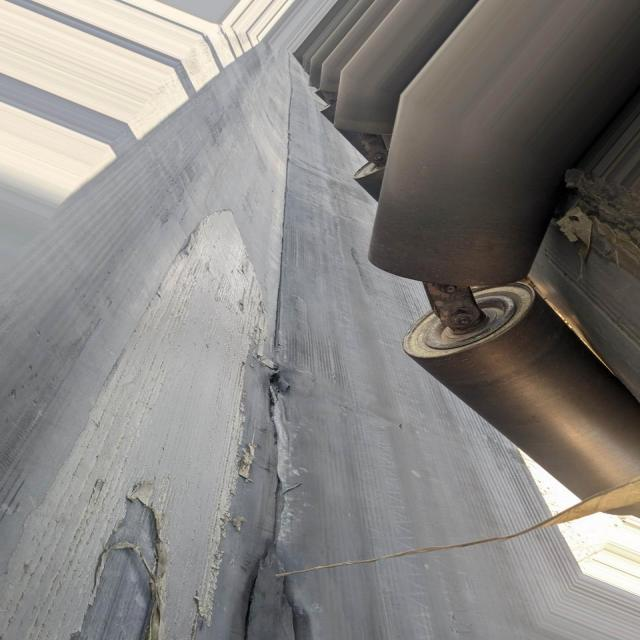Roller: (406, 284, 640, 516), (371, 105, 553, 292)
Tear: (197, 363, 297, 640), (77, 499, 157, 640)
